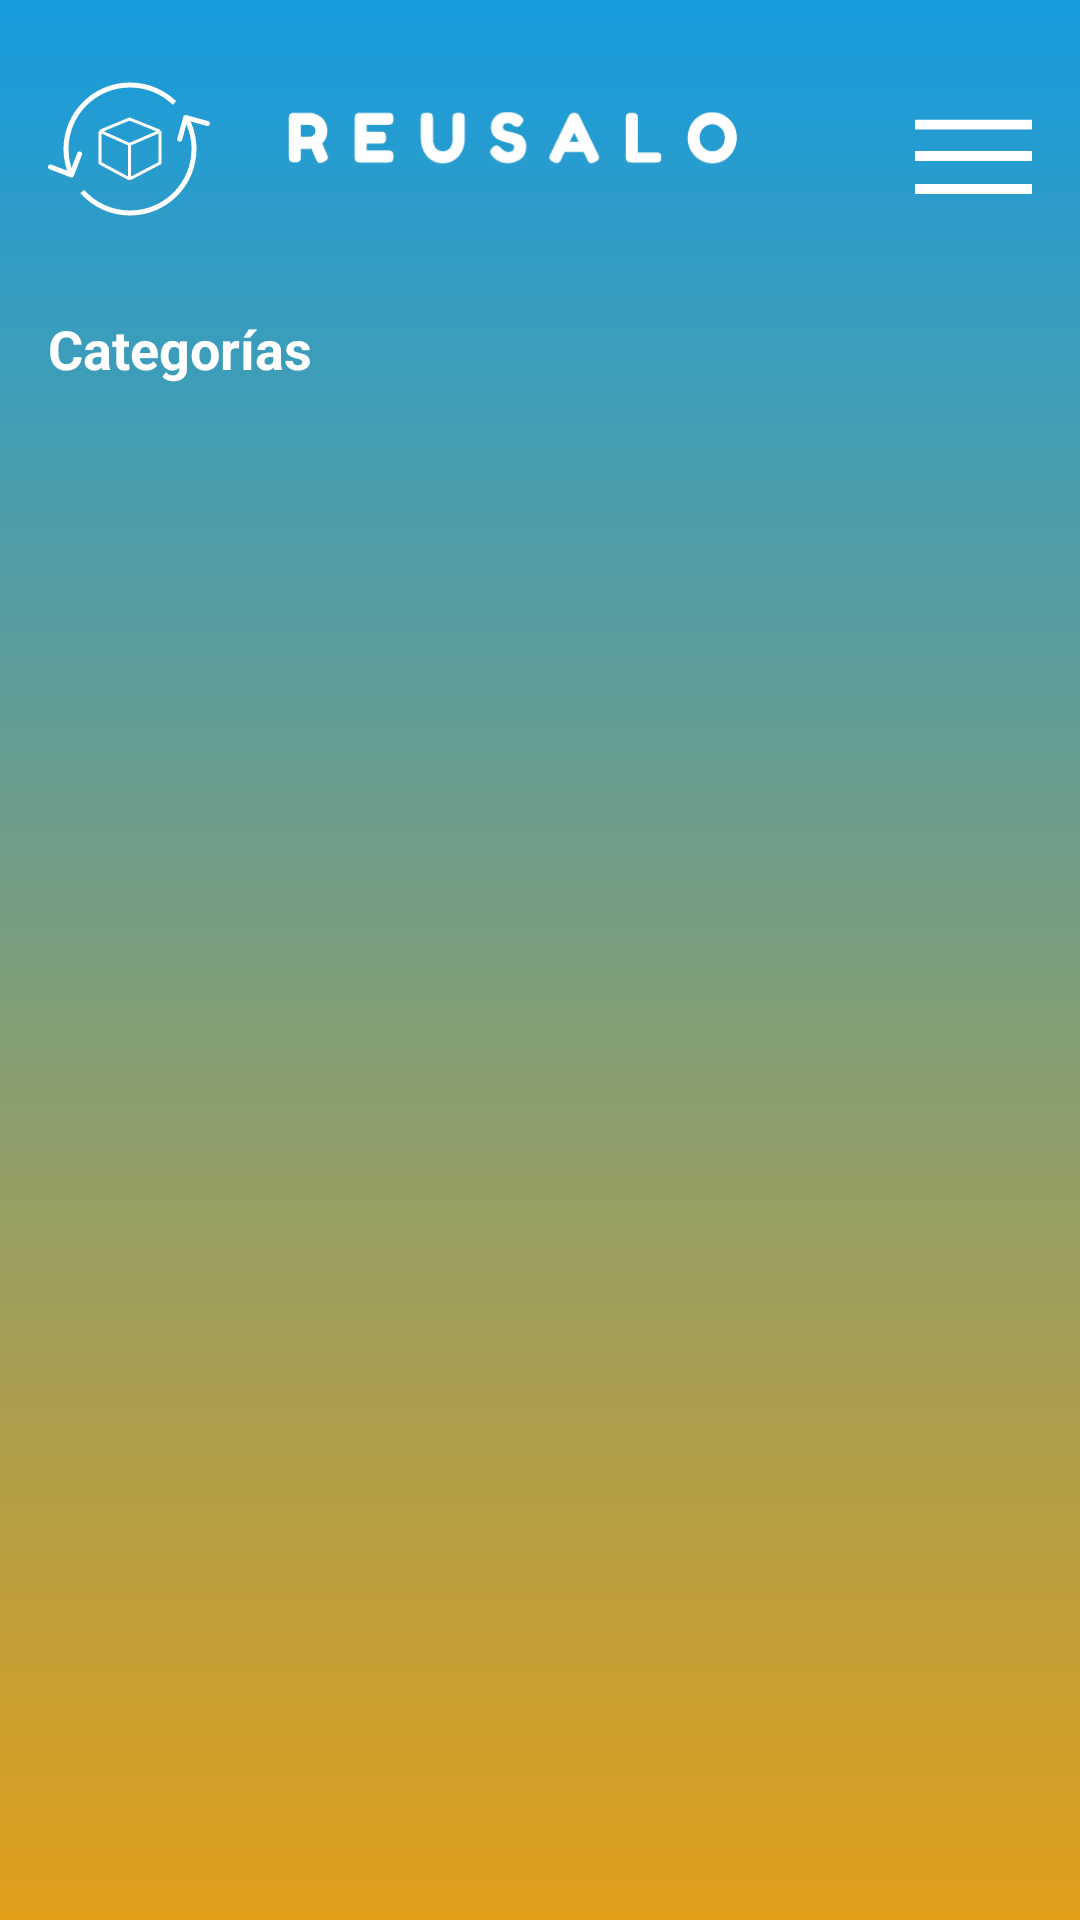

Where icons sit on this 1080w x 1920h app screen, as box(x1, y1, x2, y2):
Menú: box(915, 119, 1032, 194)
